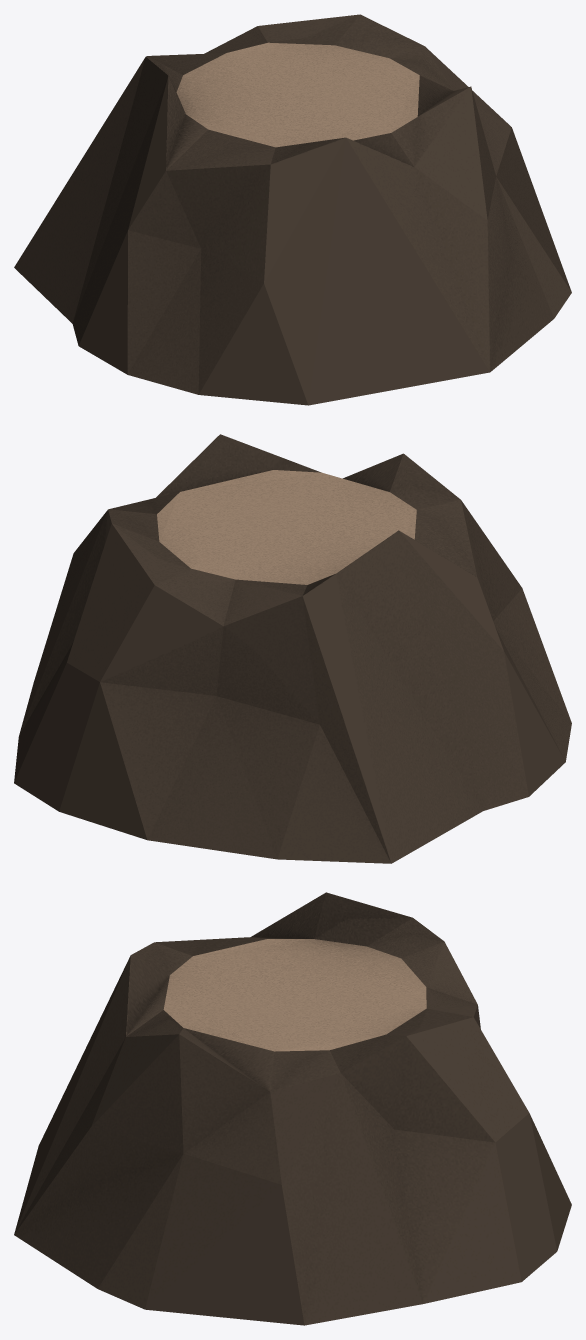
File: Podest.glb
3 renders of one model, top to bottom at view 1: azimuth 30°, elevation 25°; view 2: azimuth 150°, elevation 25°; view 3: azimuth 270°, elevation 25°, orthographic. The views are drawn at different scales.
Parts seen in each view (by area): view 1: podest; view 2: podest; view 3: podest.
Boxes of the visible parts, box(x1,y1,x2,y2) form: podest: box(14, 14, 571, 405); podest: box(14, 434, 571, 863); podest: box(14, 892, 571, 1325).
Size of the model in its own units: 3.13 by 1.54 by 3.1.
2 materials, 2 textured.
